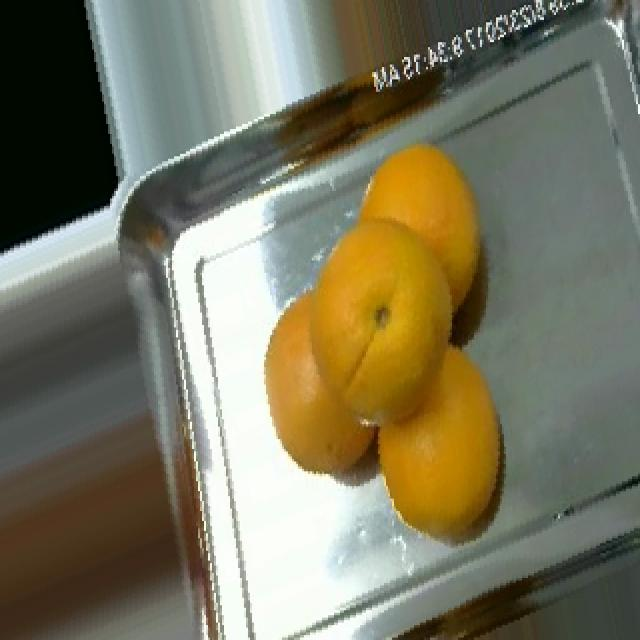Fruit: (362, 382, 528, 568)
